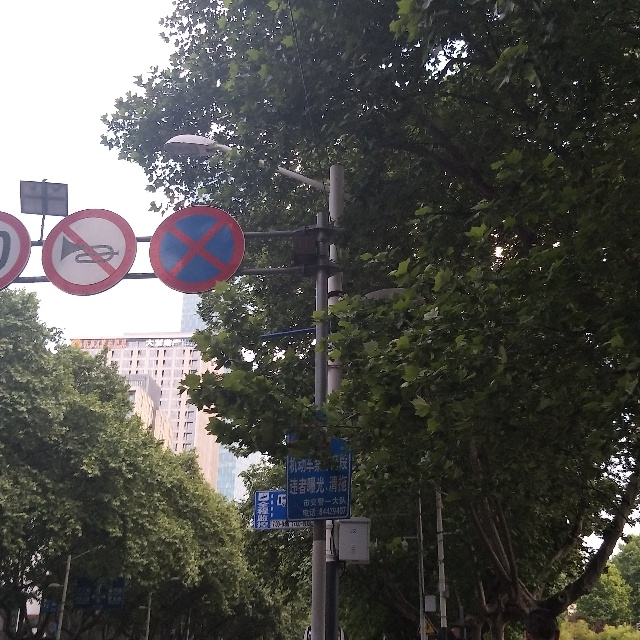nohonk: (45, 211, 132, 294)
stop: (153, 209, 244, 287)
